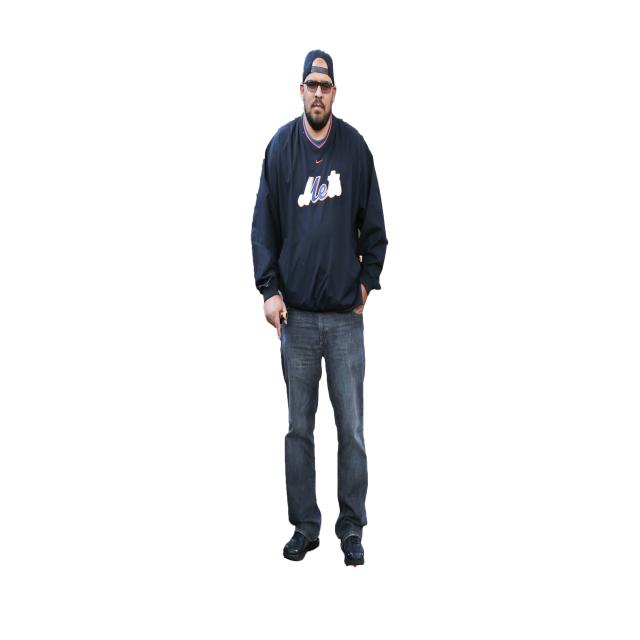jovem: (246, 45, 406, 584)
